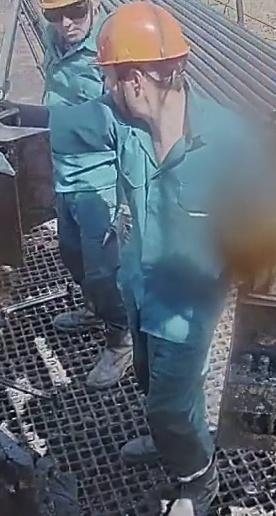gloves: (102, 199, 135, 263)
goggles: (39, 4, 93, 24)
helmet: (87, 0, 190, 66), (30, 0, 101, 9)
vest: (99, 91, 233, 344), (38, 32, 105, 195)
